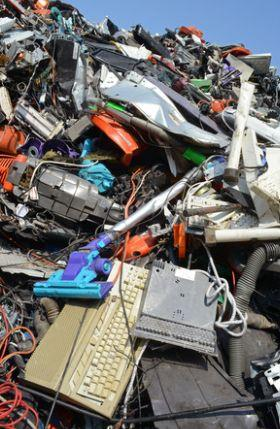electronic: (22, 262, 153, 418), (10, 42, 94, 144), (1, 294, 43, 427), (34, 167, 123, 226), (1, 218, 94, 273), (197, 240, 247, 337), (247, 348, 279, 427), (181, 190, 239, 230), (110, 261, 149, 318), (6, 156, 39, 189), (0, 124, 26, 155), (182, 147, 208, 166)
